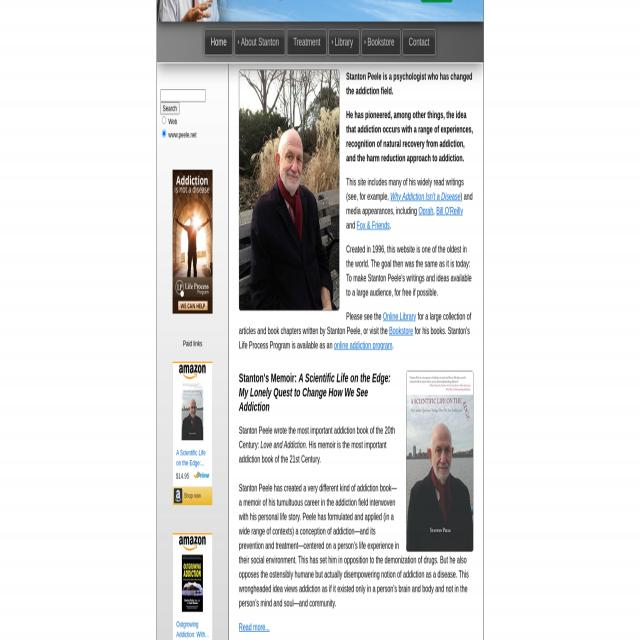button: (239, 70, 339, 310), (406, 372, 473, 551), (173, 170, 213, 314), (235, 29, 285, 55), (287, 29, 327, 55), (361, 29, 401, 55), (402, 29, 436, 55), (328, 29, 359, 55), (204, 29, 233, 55), (160, 102, 180, 115)
field: (160, 90, 206, 102), (162, 116, 166, 125), (162, 130, 166, 138)
